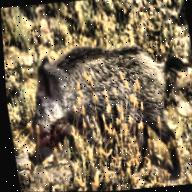boar: (21, 38, 192, 188)
